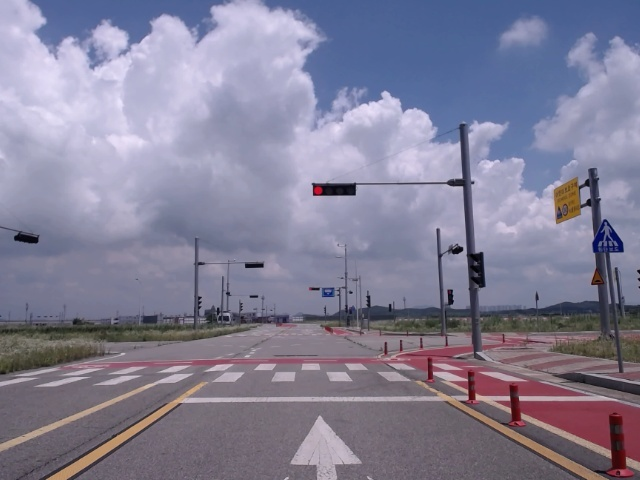red_4: (313, 184, 356, 196)
